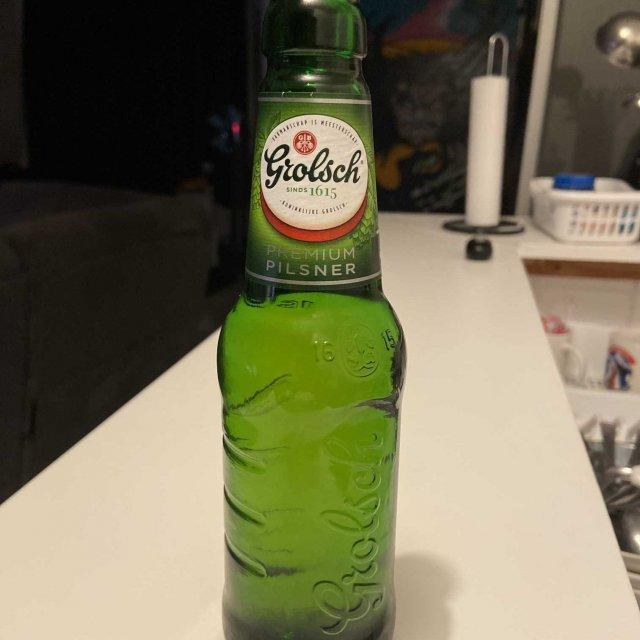Glass: (216, 0, 407, 640)
